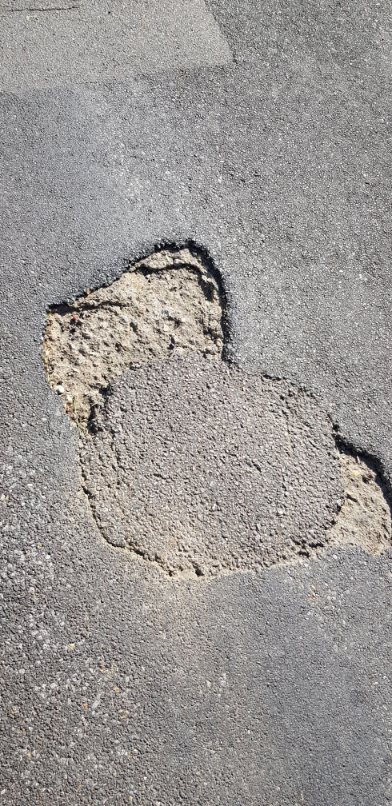pothole: (36, 235, 234, 426), (319, 427, 392, 562)
